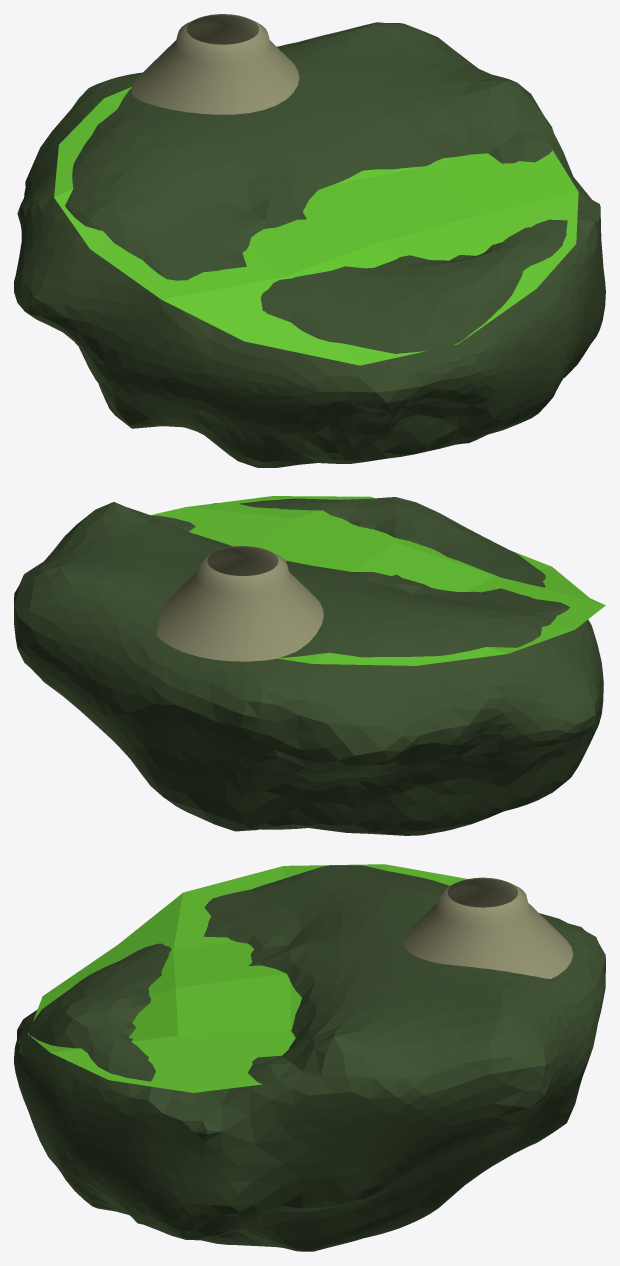
File: lowpoly nuclear.fbx
3 renders of one model, top to bottom at view 1: azimuth 30°, elevation 25°; view 2: azimuth 150°, elevation 25°; view 3: azimuth 270°, elevation 25°, orthographic. The views are drawn at different scales.
Parts seen in each view (by area): view 1: Plane; view 2: Plane; view 3: Plane.
Part boxes in pixels (x1,y1,x2,y2): Plane: (14,14,605,467); Plane: (14,496,605,835); Plane: (14,864,605,1251).
Bounding box in the file's own units: 415 × 254 × 419.
